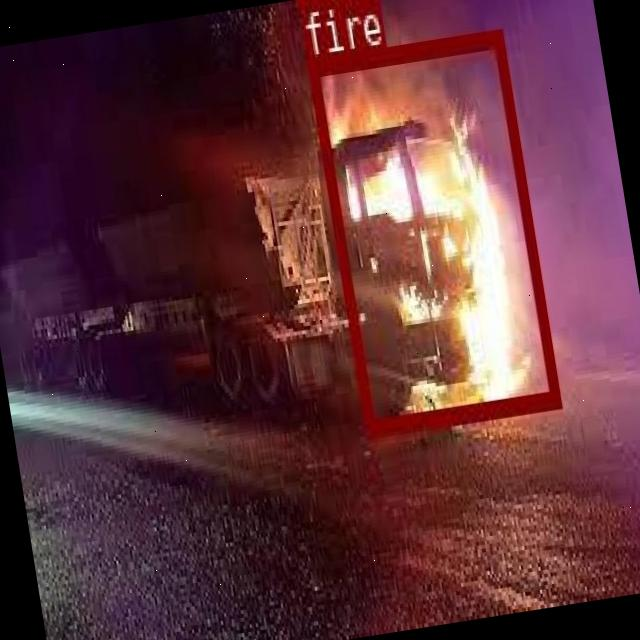fire: (305, 29, 560, 436)
